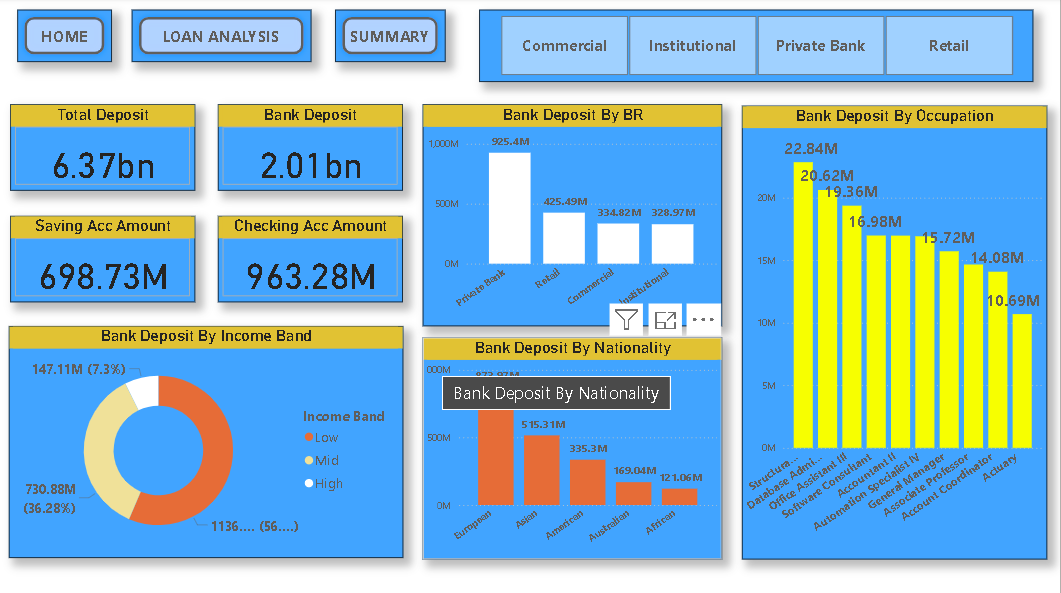

The page's visual inventory and layout, read from the dashboard file:
{"tool":"powerbi","page":{"name":"DEPOSIT ANALYSIS","canvas":[1280,720],"ordinal":2},"visuals":[{"type":"cardVisual","title":"Total Deposit ","fields":{"Data":["Banking.Total Bank Deposit"]},"box":[13.5,129.2,223.2,103.9],"z":0},{"type":"cardVisual","title":"Bank Deposit ","fields":{"Data":["Sum(Banking.Bank Deposits)"]},"box":[264.1,129.5,223.2,103.9],"z":1000},{"type":"cardVisual","title":"Saving Acc Amount","fields":{"Data":["Sum(Banking.Saving Accounts)"]},"box":[13.5,263.8,223.2,103.9],"z":2000},{"type":"cardVisual","title":"Checking Acc Amount","fields":{"Data":["Sum(Banking.Checking Accounts)"]},"box":[264.1,264.1,223.2,103.9],"z":3000},{"type":"donutChart","title":"Bank Deposit By Income Band","fields":{"Category":["Banking.Income Band"],"Y":["Sum(Banking.Bank Deposits)"]},"box":[11.9,397,475.4,279.5],"z":4000},{"type":"clusteredColumnChart","title":"Bank Deposit By BR","fields":{"Category":["Banking.BRId"],"Y":["Sum(Banking.Bank Deposits)"]},"box":[510.9,129.5,361.2,267.5],"z":5000},{"type":"clusteredColumnChart","title":"Bank Deposit By Nationality","fields":{"Category":["Banking.Nationality"],"Y":["Sum(Banking.Bank Deposits)"]},"box":[510.9,410.7,361.2,267.5],"z":6000},{"type":"clusteredColumnChart","title":"Bank Deposit By Occupation","fields":{"Category":["Banking.Occupation"],"Y":["Sum(Banking.Bank Deposits)"]},"box":[896.3,131.2,368.1,547],"z":7000},{"type":"actionButton","box":[160.2,15.3,216.4,63],"z":8000},{"type":"actionButton","box":[22.2,15.3,114.2,63],"z":9000},{"type":"actionButton","box":[405.6,15.3,132.9,63],"z":10000},{"type":"slicer","fields":{"Values":["Banking.BRId"]},"box":[579.4,15.3,668,86.9],"z":11000}]}

Visuals, with their boxes in screenshot pixels (x1, y1, x2, y2), scaled from the page's 1280x720 canvas onto the 1061x593 screenshot:
"Total Deposit " cardVisual: 11 106 196 192
"Bank Deposit " cardVisual: 219 107 404 192
"Saving Acc Amount" cardVisual: 11 217 196 303
"Checking Acc Amount" cardVisual: 219 218 404 303
"Bank Deposit By Income Band" donutChart: 10 327 404 557
"Bank Deposit By BR" clusteredColumnChart: 423 107 723 327
"Bank Deposit By Nationality" clusteredColumnChart: 423 338 723 559
"Bank Deposit By Occupation" clusteredColumnChart: 743 108 1048 559
actionButton: 133 13 312 64
actionButton: 18 13 113 64
actionButton: 336 13 446 64
slicer - Banking.BRId: 480 13 1034 84
